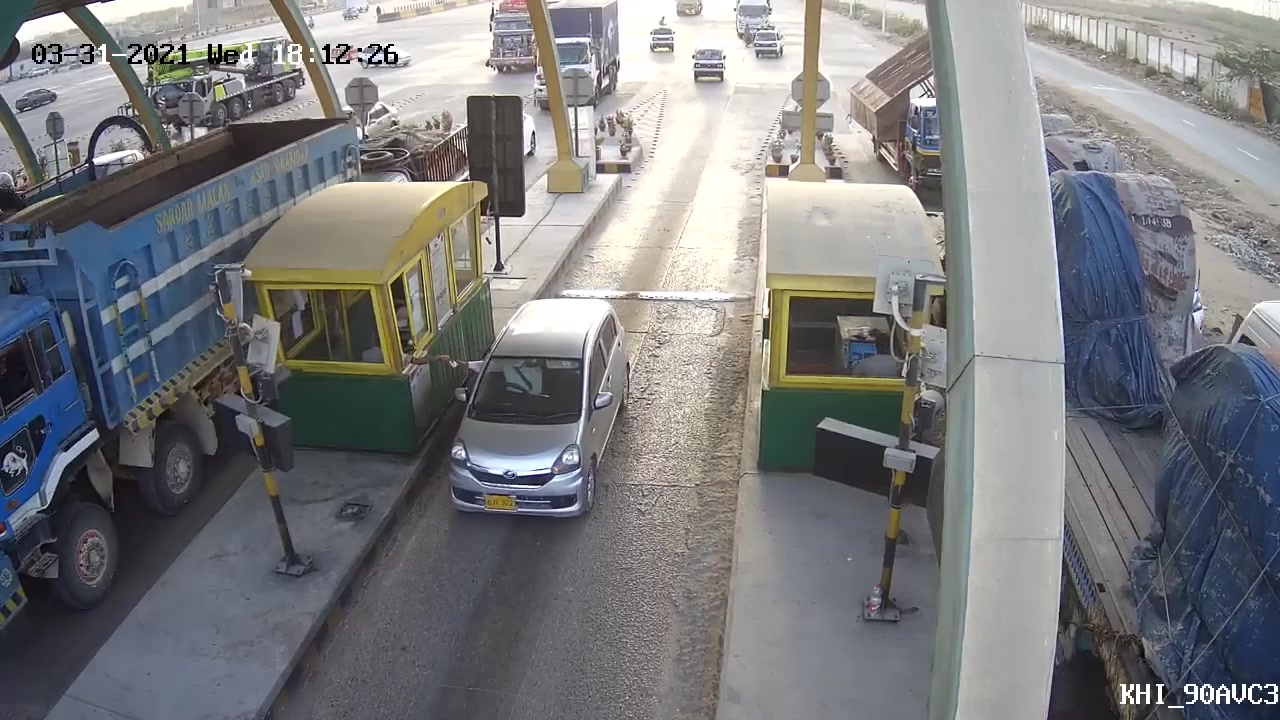F1: (441, 290, 641, 525)
